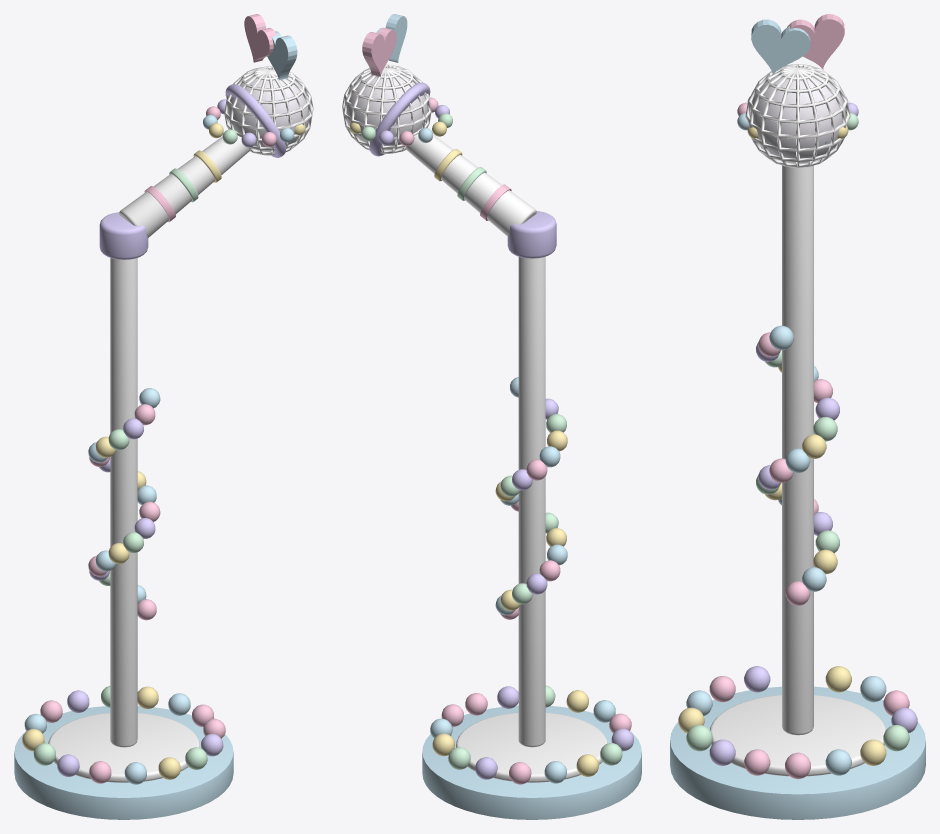
Rendered from FriendshipMic.fbx.
3 views of the same model, side by side, from view 1: azimuth 30°, elevation 25°; view 2: azimuth 150°, elevation 25°; view 3: azimuth 270°, elevation 25° (orthographic). The views are drawn at different scales.
Visible parts, largest first — view 1: FFFFFF, 9ED8F5, B9A6FF, FF9EC4, FFFFFF_Metal, FFE07A, A7E9B8, E8E2F2_Metal; view 2: FFFFFF, 9ED8F5, B9A6FF, FF9EC4, FFFFFF_Metal, FFE07A, A7E9B8, E8E2F2_Metal; view 3: FFFFFF, 9ED8F5, FF9EC4, FFFFFF_Metal, E8E2F2_Metal, B9A6FF, FFE07A, A7E9B8.
Part boxes in pixels (x1,y1,x2,y2): FFFFFF: (48, 130, 249, 782); 9ED8F5: (14, 31, 297, 819); B9A6FF: (57, 84, 285, 776); FF9EC4: (40, 14, 276, 783); FFFFFF_Metal: (224, 66, 313, 155); FFE07A: (22, 123, 305, 779); A7E9B8: (33, 129, 237, 769); E8E2F2_Metal: (228, 76, 308, 151); FFFFFF: (406, 128, 607, 782); 9ED8F5: (376, 14, 641, 819); B9A6FF: (369, 82, 633, 779); FF9EC4: (362, 27, 631, 784); FFFFFF_Metal: (342, 64, 431, 154); FFE07A: (350, 121, 598, 776); A7E9B8: (361, 113, 622, 769); E8E2F2_Metal: (346, 75, 427, 150); FFFFFF: (710, 165, 885, 776); 9ED8F5: (670, 19, 925, 819); FF9EC4: (709, 14, 909, 779); FFFFFF_Metal: (745, 64, 850, 168); E8E2F2_Metal: (750, 76, 845, 163); B9A6FF: (709, 97, 917, 765); FFE07A: (678, 125, 886, 765); A7E9B8: (686, 112, 909, 751).
Bounding box in the file's own units: 212 × 517 × 144.
